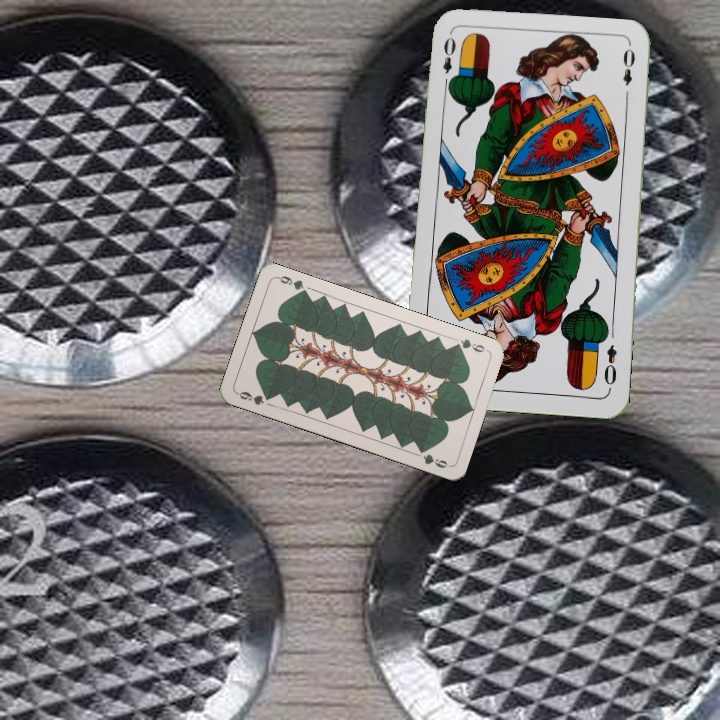EO: (438, 33, 458, 91), (599, 341, 620, 388)
G9: (233, 387, 275, 408), (449, 334, 491, 355)
